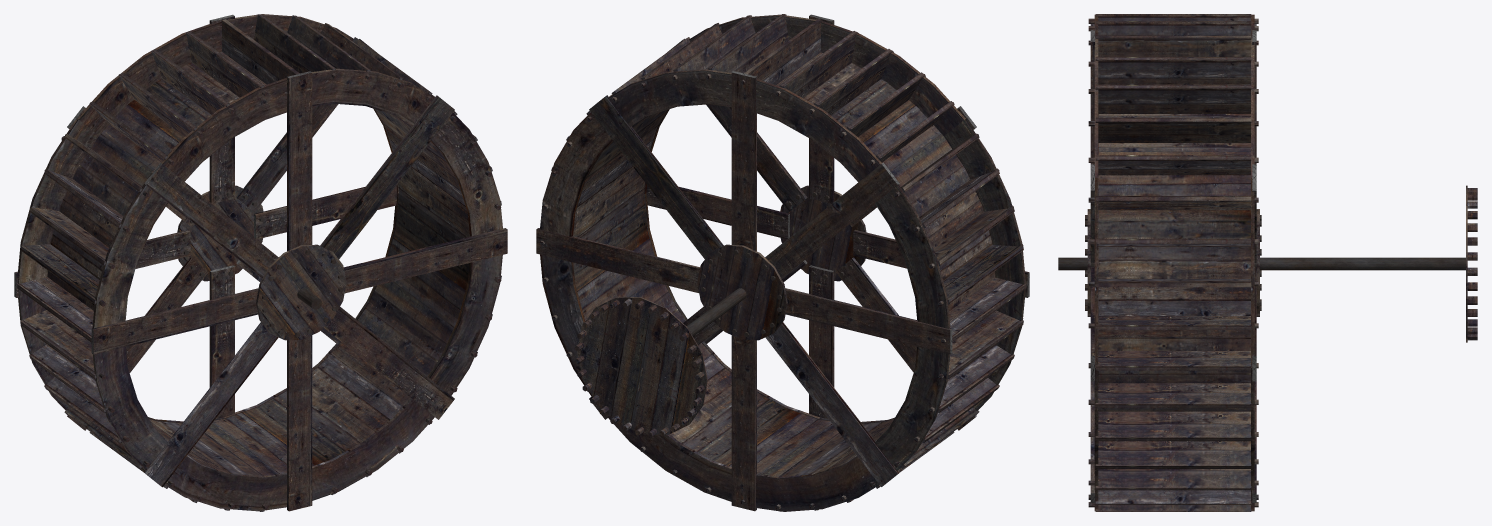
The model's file is wheel.obj.
The picture shows the model from 3 angles, left to right: view 1: azimuth 30°, elevation 25°; view 2: azimuth 150°, elevation 25°; view 3: azimuth 270°, elevation 25°; orthographic projection. The views are drawn at different scales.
Visible parts, largest first — view 1: Wheel_Cylinder.000; view 2: Wheel_Cylinder.000; view 3: Wheel_Cylinder.000.
Part boxes in pixels (x1,y1,x2,y2): Wheel_Cylinder.000: (14, 14, 507, 511); Wheel_Cylinder.000: (536, 14, 1029, 511); Wheel_Cylinder.000: (1058, 14, 1477, 511).
Size of the model in its own units: 3.56 by 3.56 by 2.99.
Materials: 5 (5 with a texture image).
